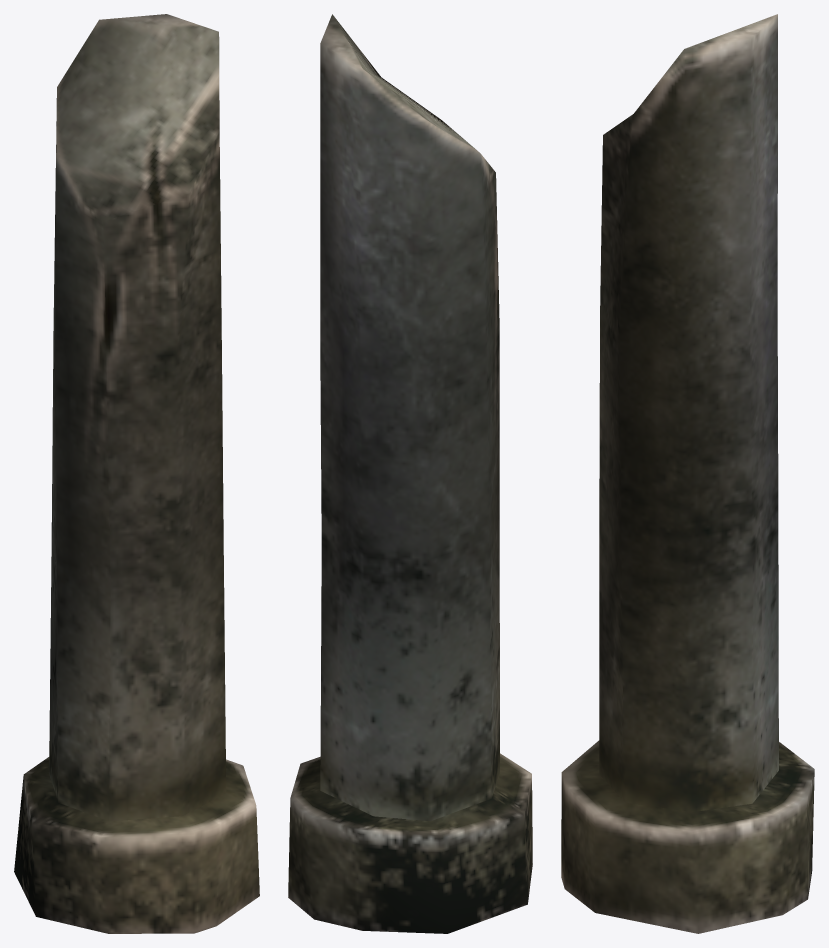
File: zamok7.fbx
The picture shows the model from 3 angles, left to right: view 1: azimuth 30°, elevation 25°; view 2: azimuth 150°, elevation 25°; view 3: azimuth 270°, elevation 25°; orthographic projection. The views are drawn at different scales.
Parts seen in each view (by area): view 1: Lp+.007; view 2: Lp+.007; view 3: Lp+.007.
Boxes of the visible parts, x1,y1,x2,y2 form: Lp+.007: (14, 14, 259, 933); Lp+.007: (288, 14, 532, 933); Lp+.007: (561, 14, 814, 933).
Size of the model in its own units: 278 by 1017 by 268.
